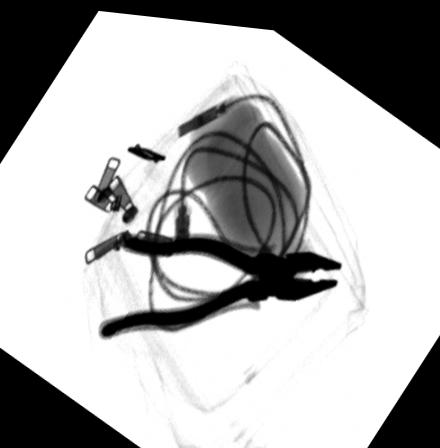Pliers: (97, 228, 345, 339)
